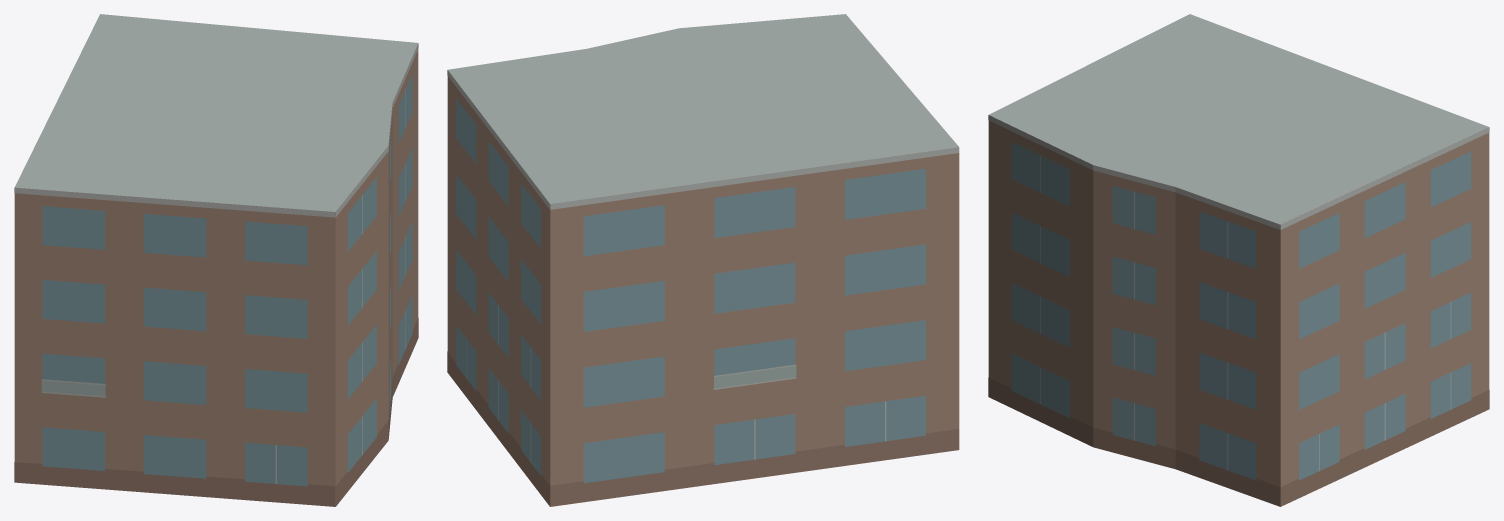
File: survey-upis-32747995.glb
The picture shows the model from 3 angles, left to right: view 1: azimuth 30°, elevation 25°; view 2: azimuth 150°, elevation 25°; view 3: azimuth 270°, elevation 25°; orthographic projection. The views are drawn at different scales.
Visible parts, largest first — view 1: survey-upis-32747995.tmp; view 2: survey-upis-32747995.tmp; view 3: survey-upis-32747995.tmp.
Boxes of the visible parts, bbox=[...] form: survey-upis-32747995.tmp: bbox=[14, 14, 418, 506]; survey-upis-32747995.tmp: bbox=[447, 14, 959, 506]; survey-upis-32747995.tmp: bbox=[988, 14, 1489, 506].
Size of the model in its own units: 20.67 by 12.9 by 20.77.
